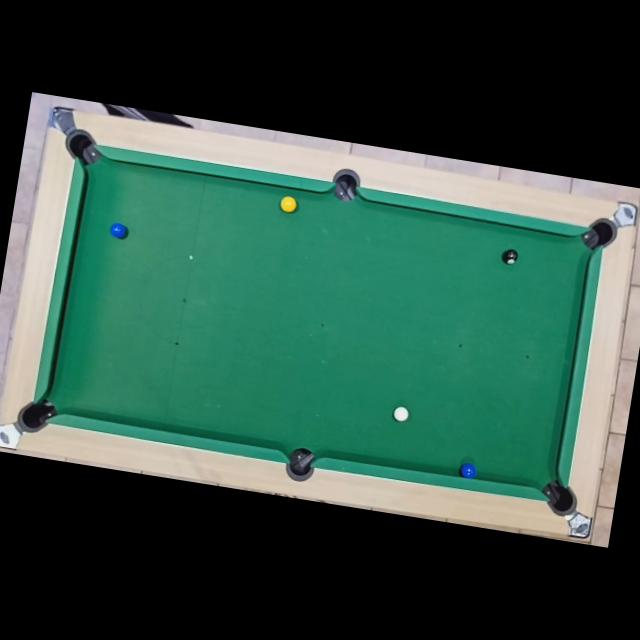Ball: (110, 222, 130, 240), (458, 462, 476, 480), (280, 196, 298, 213), (393, 406, 410, 422), (502, 249, 518, 265)
